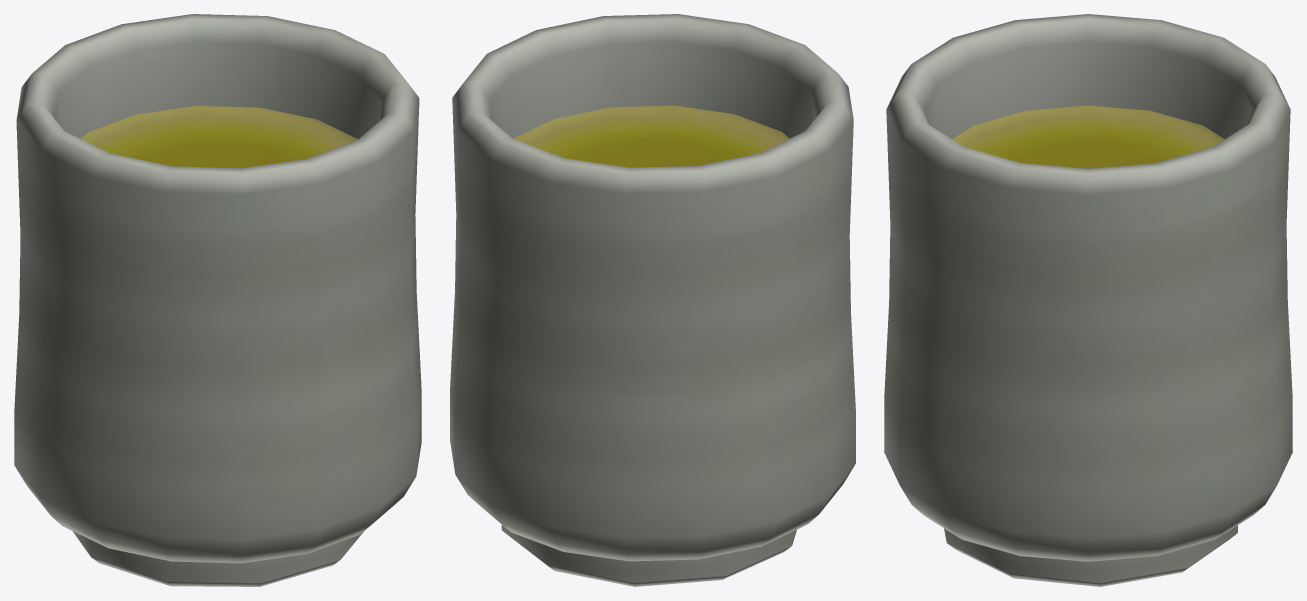
3 views of the same model, side by side, from view 1: azimuth 30°, elevation 25°; view 2: azimuth 150°, elevation 25°; view 3: azimuth 270°, elevation 25° (orthographic).
Bounding box in the file's own units: 2.39 × 2.79 × 2.39.
Materials: 1 (1 with a texture image).
